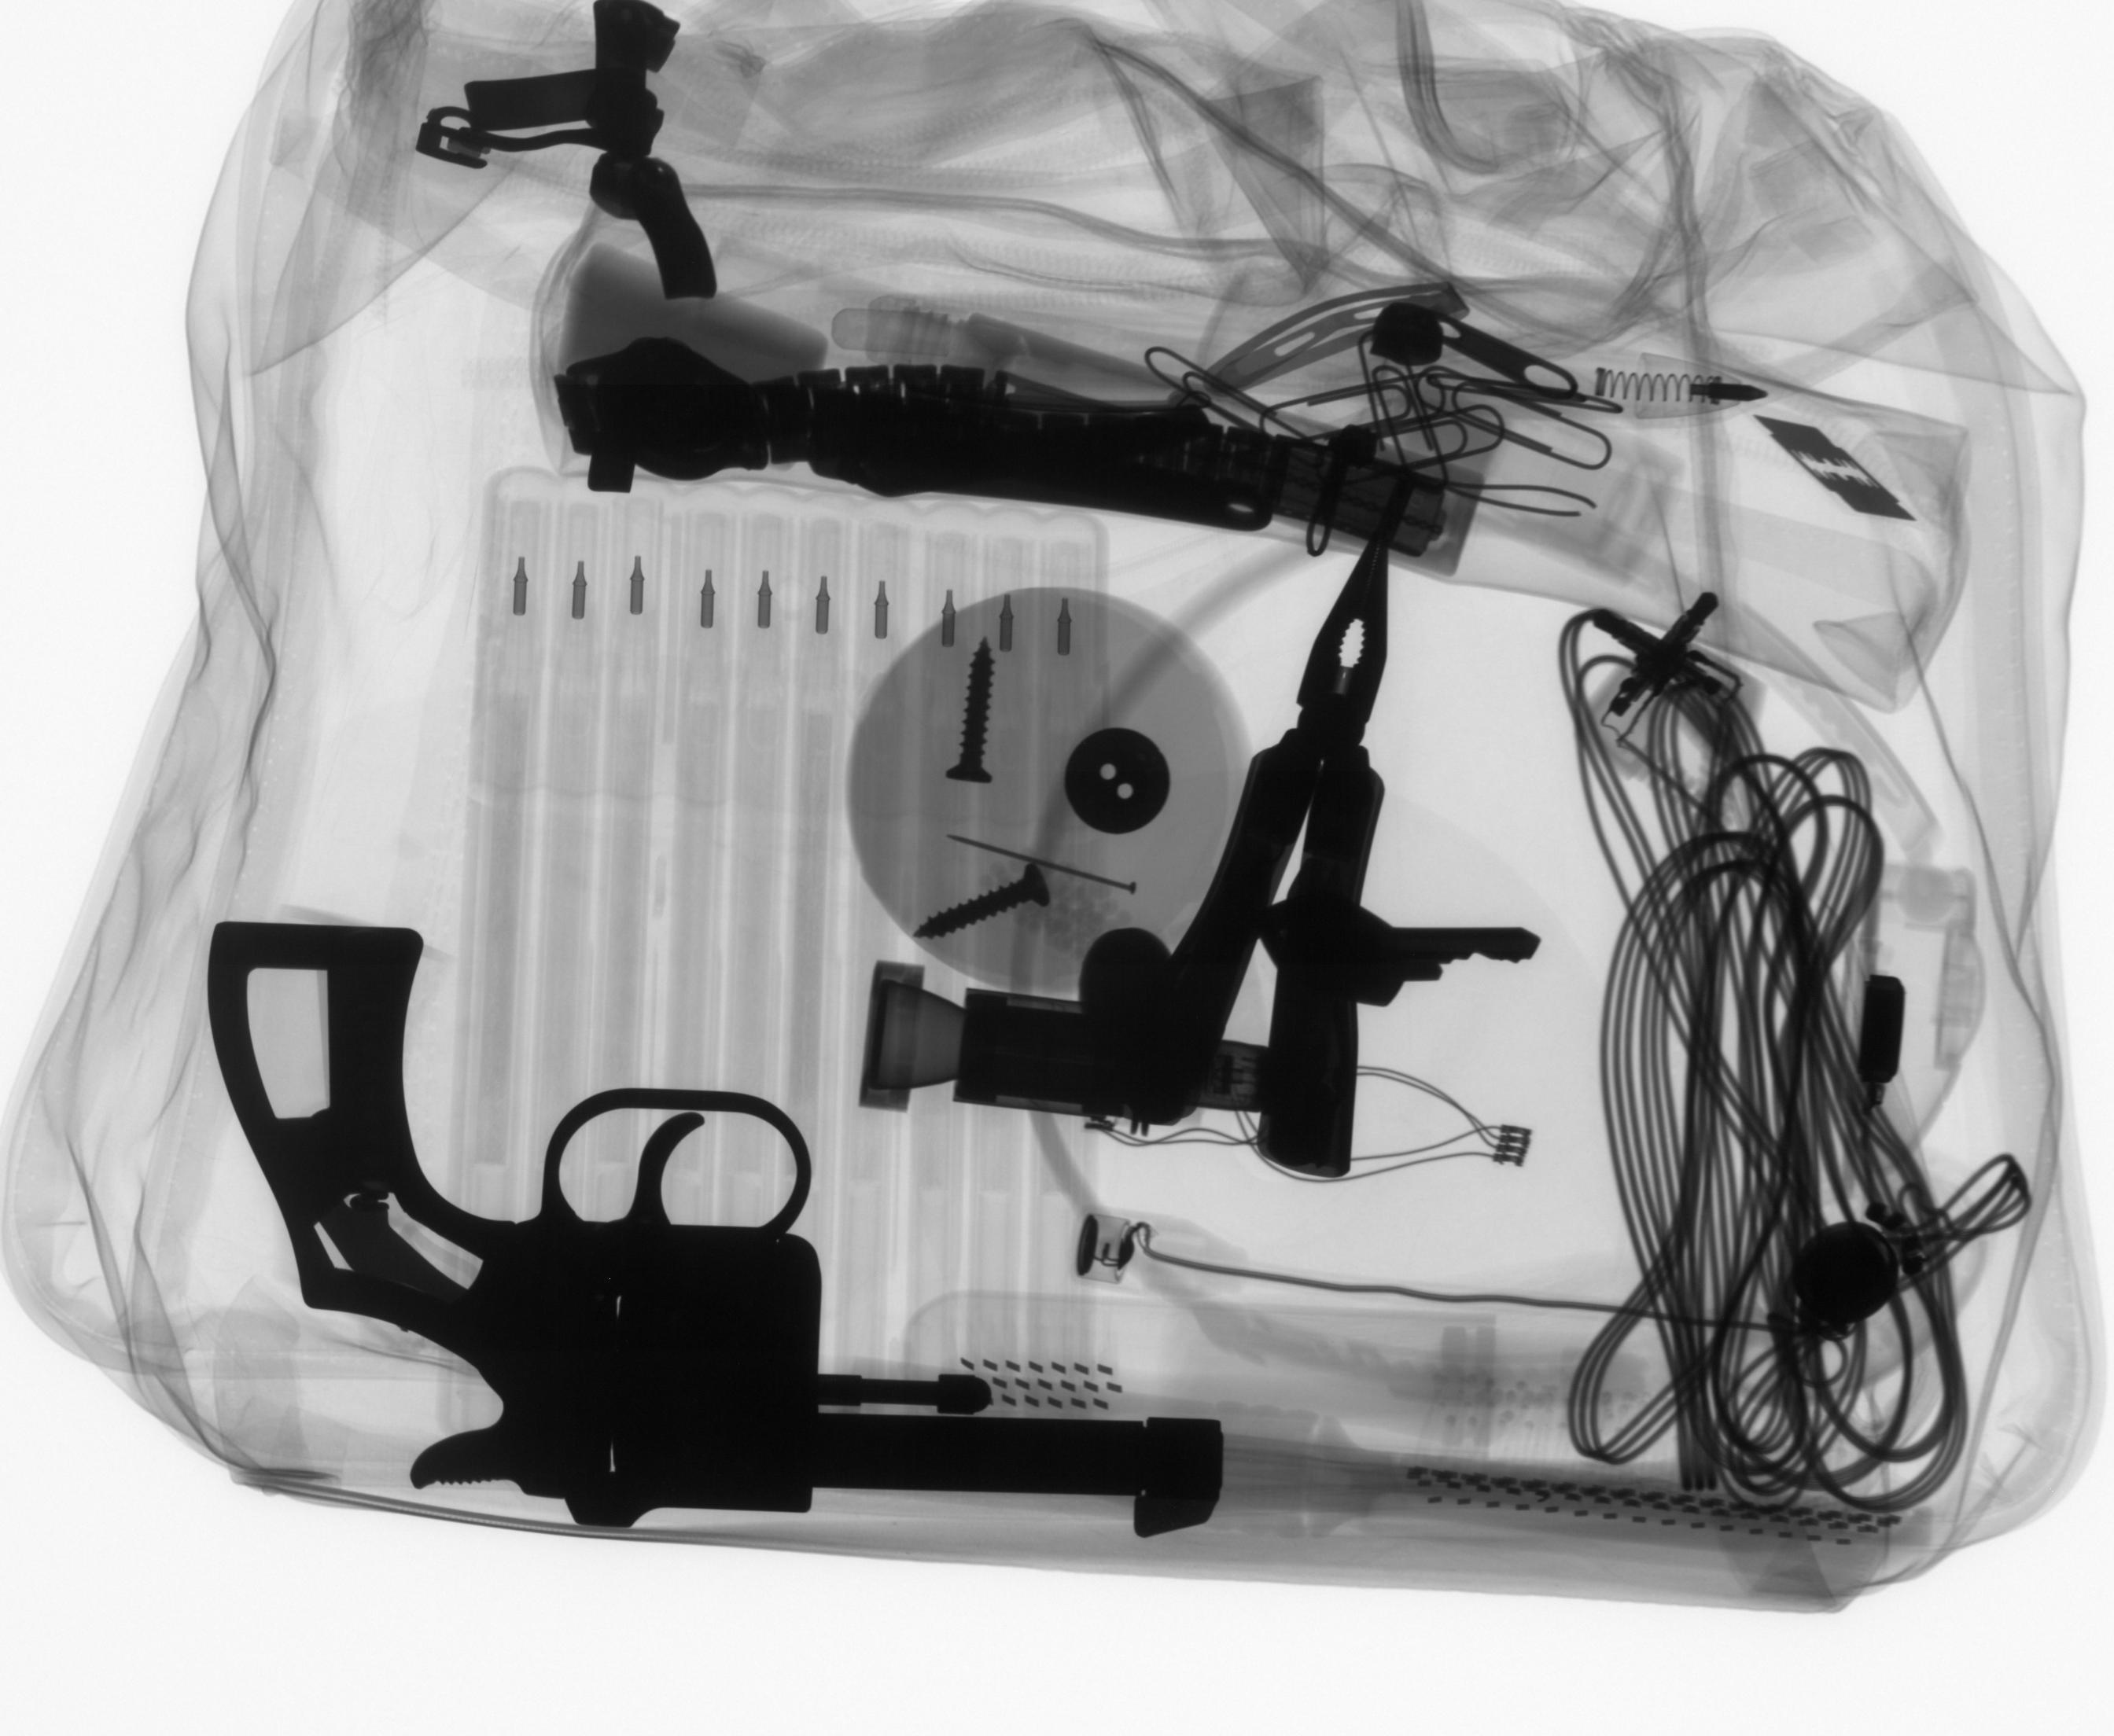Handgun: (200, 907, 1230, 1553)
